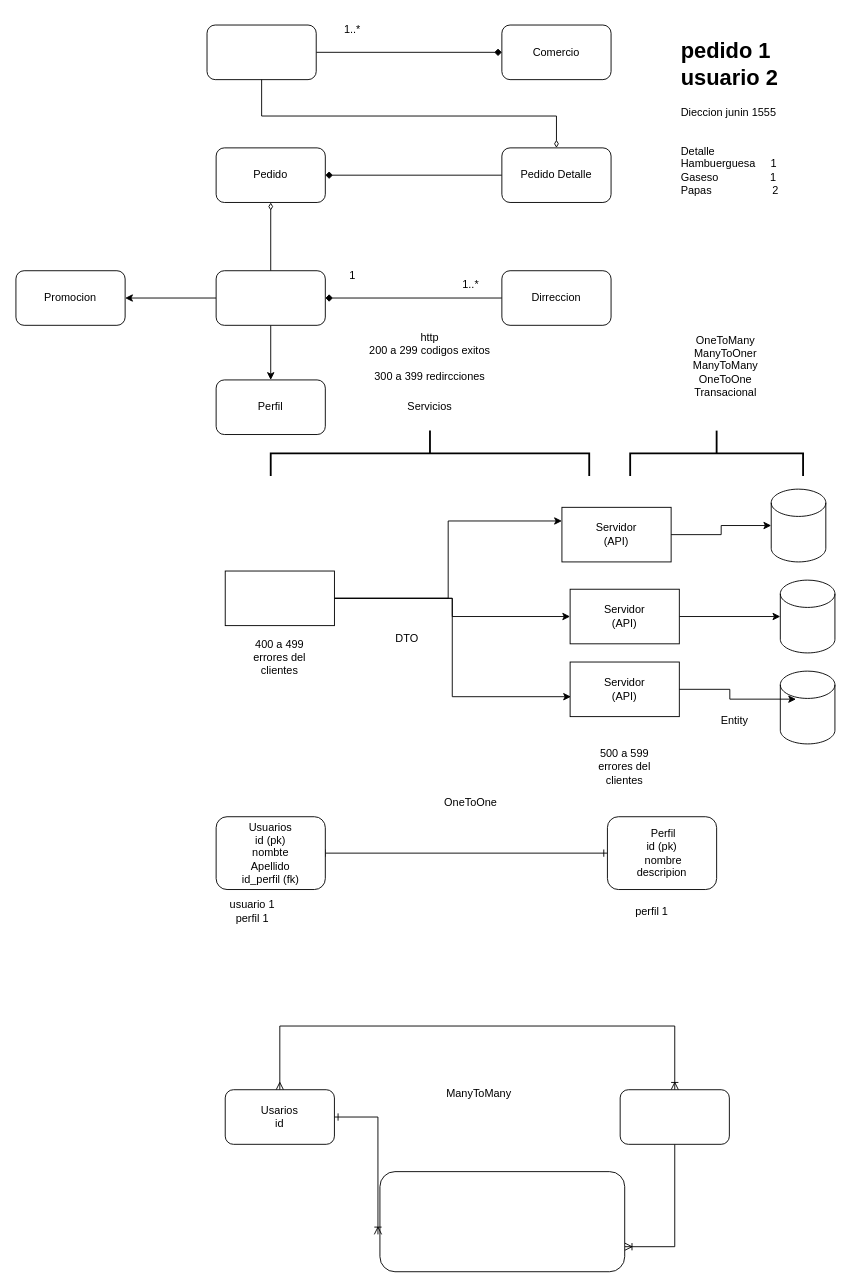
Image size: 859x1288. Some labels were removed from this diagram. Here are the shapes that lost their labels. From the top down, the box of each, then its label:
(206, 24, 316, 80): Producto
(215, 270, 325, 325): Usuario
(629, 429, 804, 477): Persistencia
(224, 570, 334, 626): Web
(619, 1089, 729, 1144): Promociones id
(379, 1171, 625, 1272): usuarios_x_promocion pk id_promocion (fk = id) pk id_usuario (fk = id)
